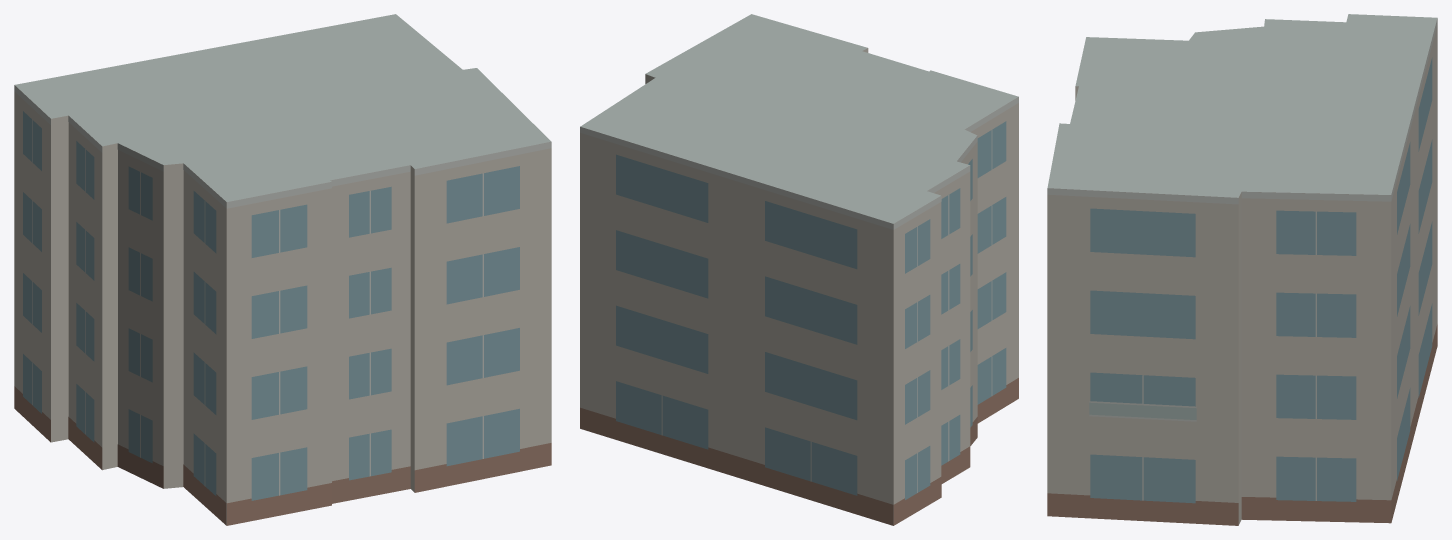
Rendered from survey-upis-32589577.glb.
The picture shows the model from 3 angles, left to right: view 1: azimuth 30°, elevation 25°; view 2: azimuth 150°, elevation 25°; view 3: azimuth 270°, elevation 25°; orthographic projection. The views are drawn at different scales.
Visible parts, largest first — view 1: survey-upis-32589577.tmp; view 2: survey-upis-32589577.tmp; view 3: survey-upis-32589577.tmp.
Part boxes in pixels (x1,y1,x2,y2): survey-upis-32589577.tmp: [14, 14, 551, 525]; survey-upis-32589577.tmp: [580, 14, 1018, 525]; survey-upis-32589577.tmp: [1047, 14, 1437, 525].
Bounding box in the file's own units: 14.55 × 12.1 × 13.05.
